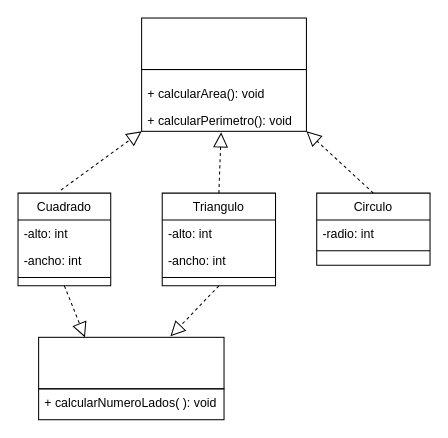
Image size: 448x438. Some labels were removed from this diagram. Each missing label, with the centre of its shape:
"«interface» FifuraGeometrica" goes at (x=223, y=43).
"«interface» Poligono" goes at (x=131, y=362).
